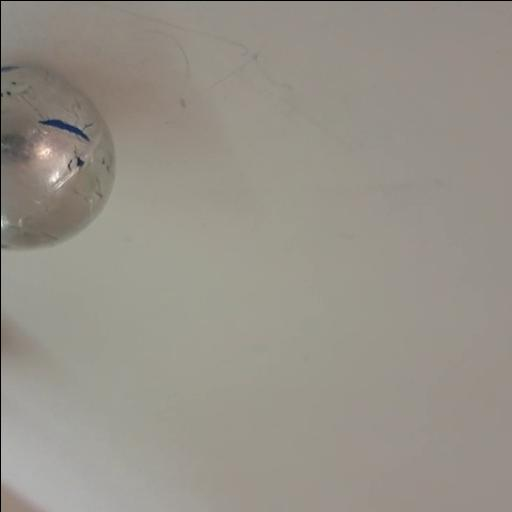alive: (0, 61, 120, 251)
